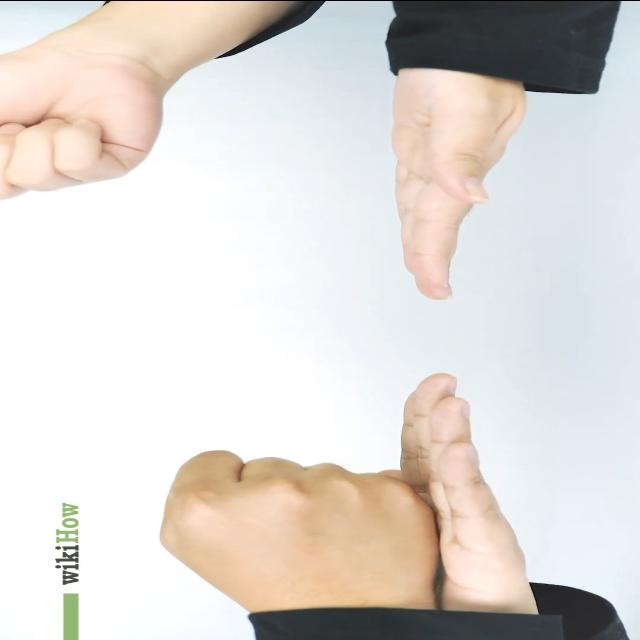Rock: (156, 448, 446, 610), (1, 34, 170, 200)
